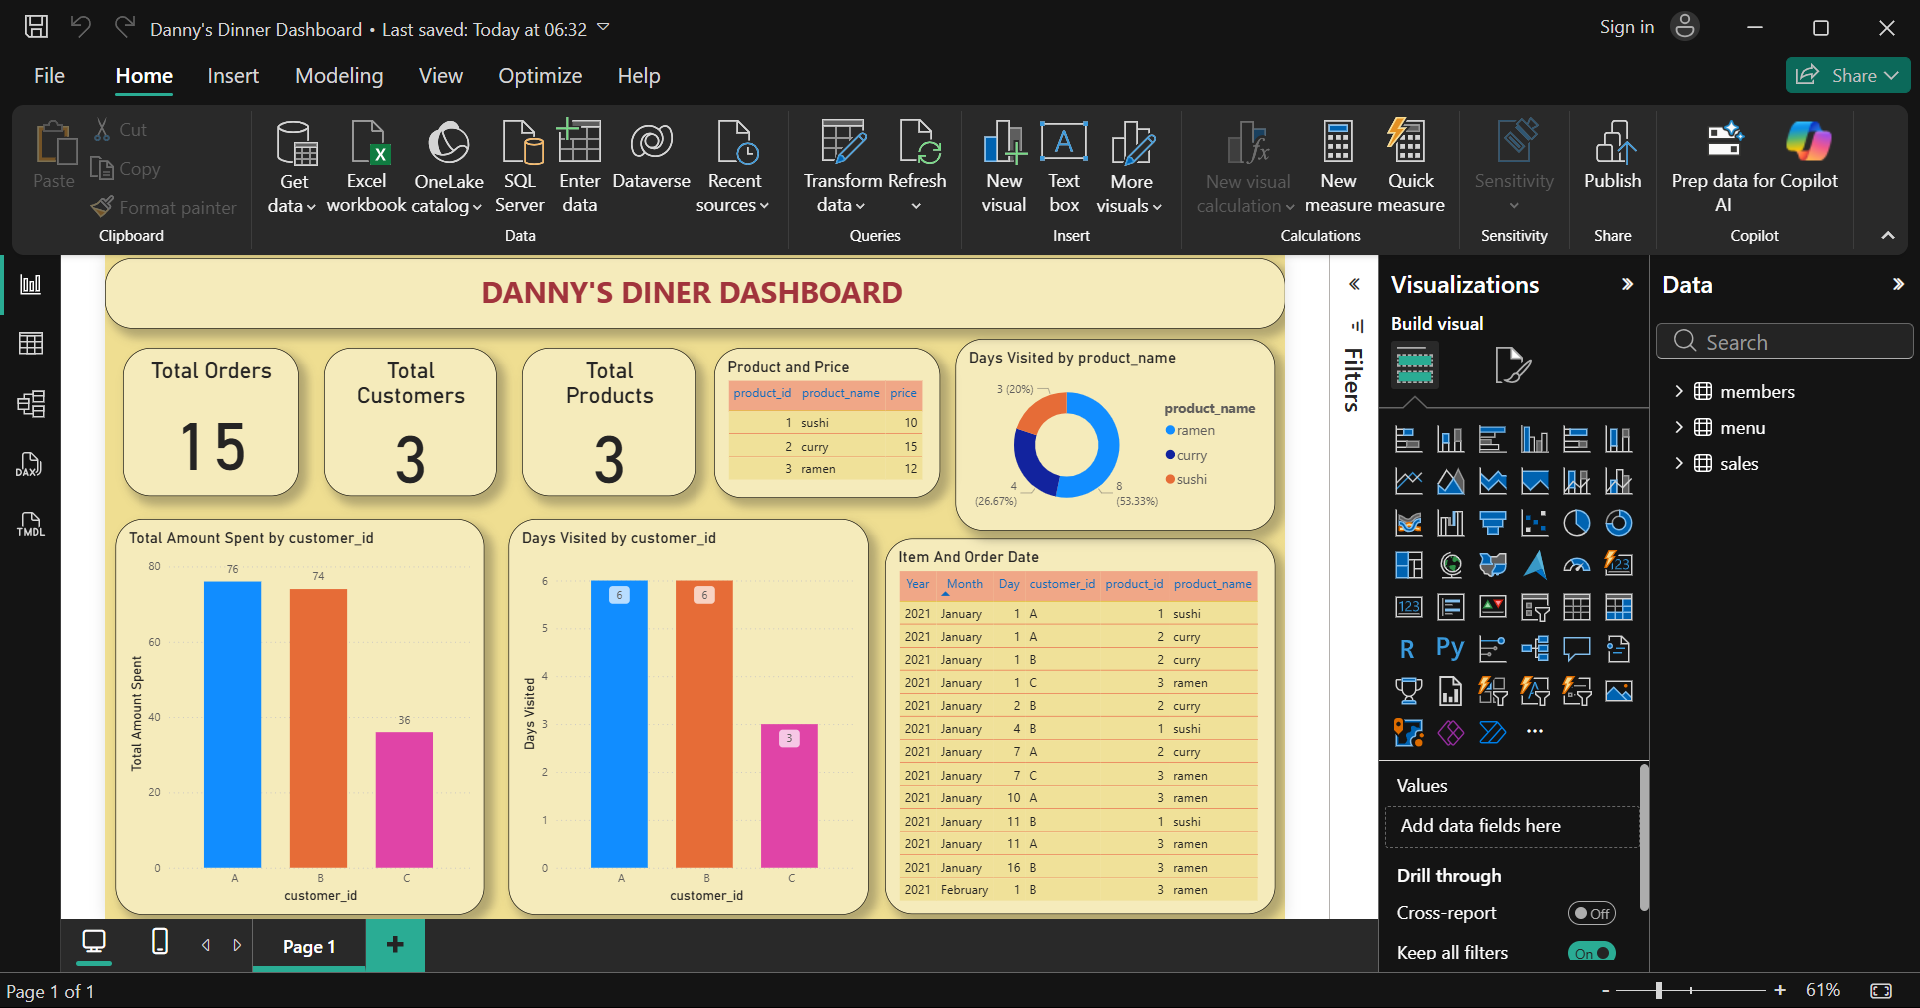

This screenshot's page, from the dashboard's own definition file:
{"tool":"powerbi","page":{"name":"Page 1","canvas":[1280,720],"ordinal":0},"visuals":[{"type":"columnChart","fields":{"Category":["sales.customer_id"],"Y":["members.Total Amount Spent"]},"box":[10.9,285.8,399.8,429.5],"z":0},{"type":"lineStackedColumnComboChart","fields":{"Category":["sales.customer_id"],"Y":["members.Days Visited"]},"box":[437.3,285.8,390.5,429.5],"z":1000},{"type":"card","title":"Total Orders","fields":{"Values":["CountNonNull(sales.product_id)"]},"box":[20.3,101.5,190.5,160.9],"z":2000},{"type":"tableEx","title":"Item And Order Date","fields":{"Values":["sales.order_date.Variation.Date Hierarchy.Year","sales.order_date.Variation.Date Hierarchy.Month","sales.order_date.Variation.Date Hierarchy.Day","sales.customer_id","menu.product_id","menu.product_name"]},"box":[846.5,307.7,423.3,407.6],"z":3000},{"type":"donutChart","fields":{"Y":["members.Days Visited"],"Category":["menu.product_name"]},"box":[923,90.6,346.7,207.7],"z":4000},{"type":"textbox","box":[0,3.1,1280,76.5],"z":5000},{"type":"card","title":"Total Customers","fields":{"Values":["Count(sales.customer_id)"]},"box":[237.4,101.5,187.4,160.9],"z":6000},{"type":"card","title":"Total Products","fields":{"Values":["Count(menu.product_name)"]},"box":[451.4,101.5,189,160.9],"z":7000},{"type":"tableEx","title":"Product and Price","fields":{"Values":["menu.product_id","menu.product_name","menu.price"]},"box":[660.7,101.5,245.2,162.4],"z":8000}]}

Visuals, with their boxes on the page's 1280x720 design canvas (x1, y1, x2, y2). These are canvas units, not pixel positions in the 1920x1008 screenshot, which may show the page scaled, cropped or inside an application window:
columnChart - sales.customer_id x members.Total Amount Spent: <box>11,286,411,715</box>
lineStackedColumnComboChart - sales.customer_id x members.Days Visited: <box>437,286,828,715</box>
"Total Orders" card: <box>20,102,211,262</box>
"Item And Order Date" tableEx: <box>846,308,1270,715</box>
donutChart - members.Days Visited x menu.product_name: <box>923,91,1270,298</box>
textbox: <box>0,3,1280,80</box>
"Total Customers" card: <box>237,102,425,262</box>
"Total Products" card: <box>451,102,640,262</box>
"Product and Price" tableEx: <box>661,102,906,264</box>
